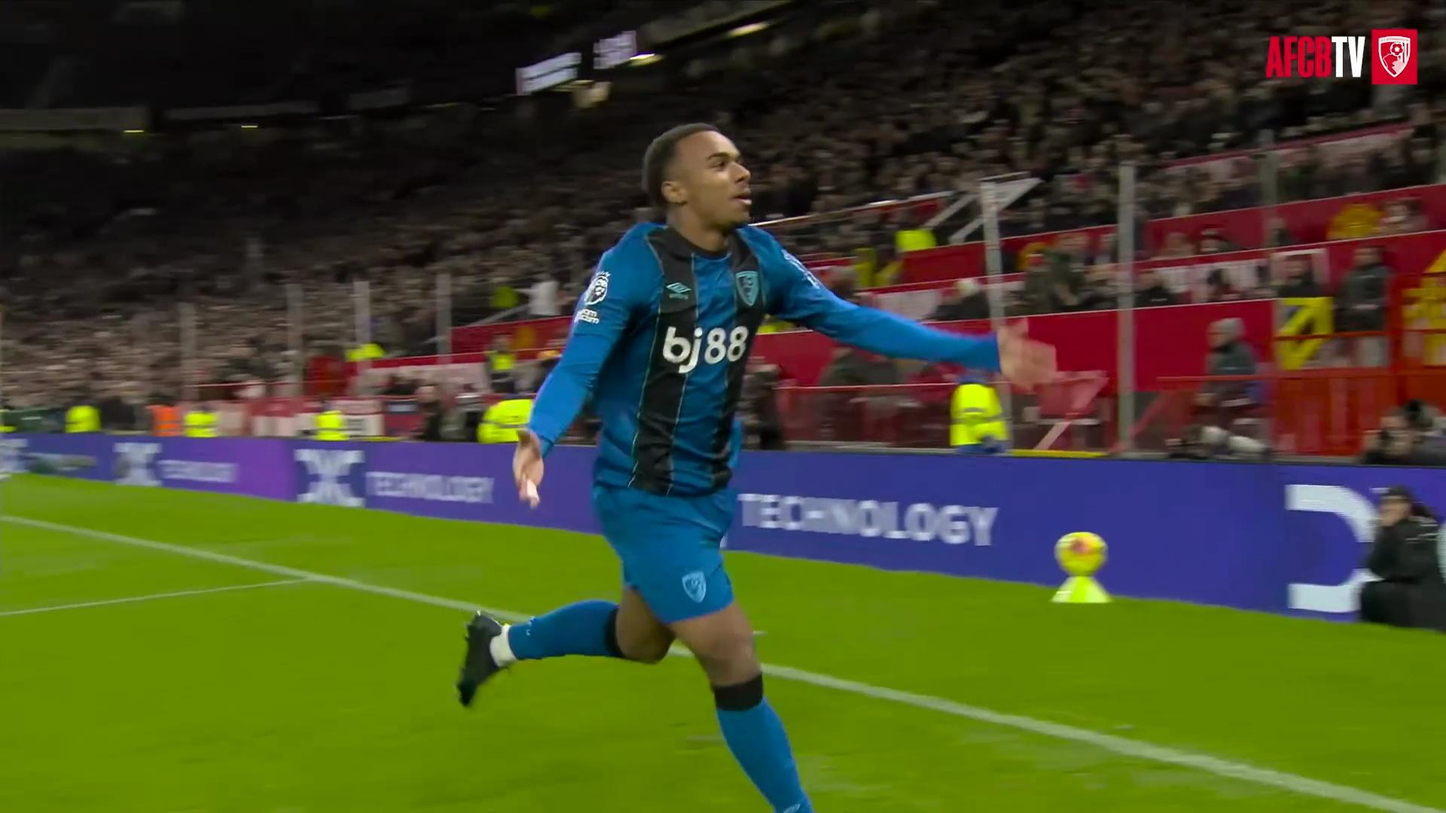player: (457, 124, 1053, 812)
